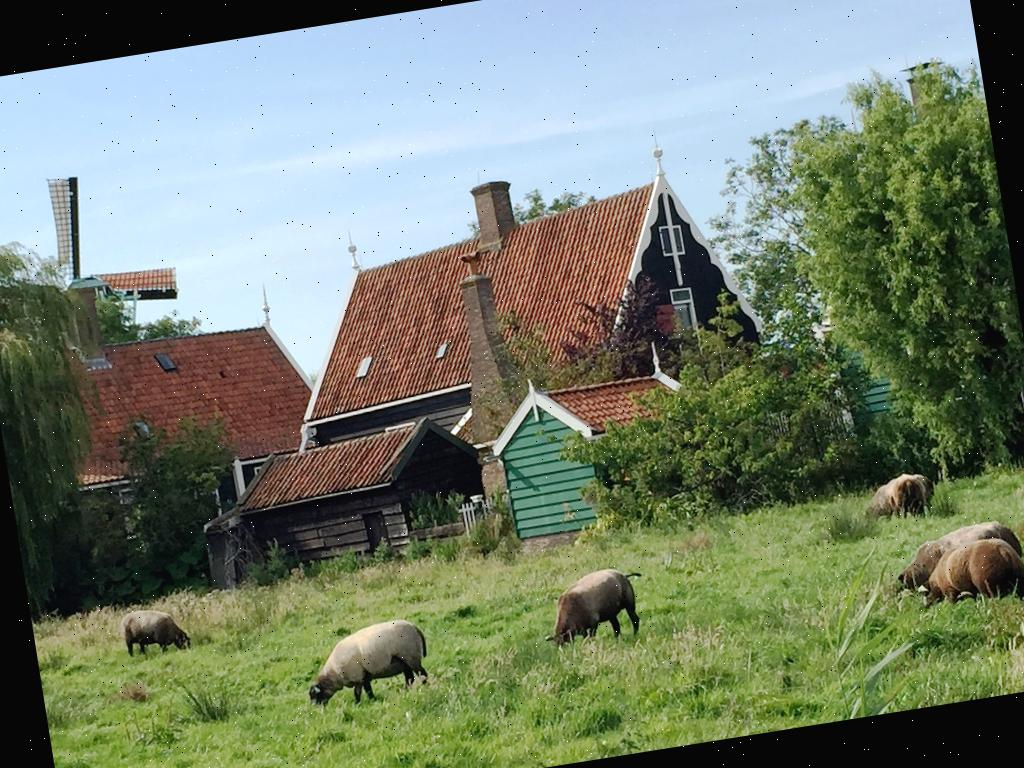Sheep: (298, 618, 432, 710), (879, 515, 1024, 598), (534, 561, 649, 658), (908, 534, 1024, 619), (860, 466, 944, 524), (123, 604, 192, 662), (880, 474, 930, 518)
